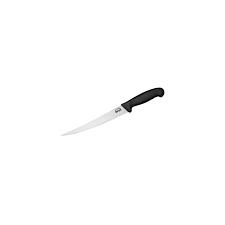Knife: (60, 86, 164, 136)
